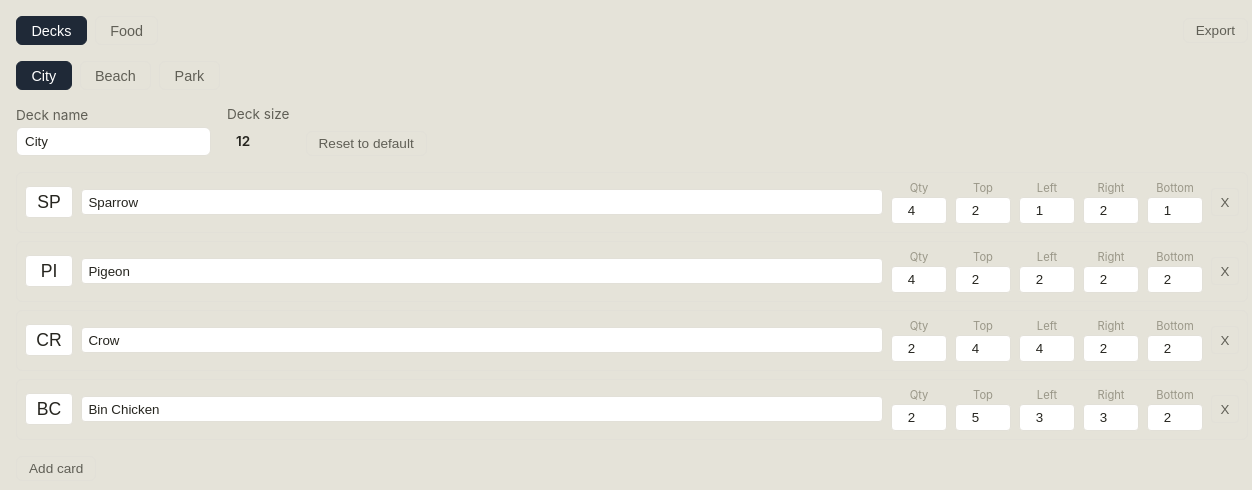
Test: ManagePage › has no editable deck-size field — it's the sum of each card's quantity
The image size is (1252, 490).
Expected: the text "12" is shown, top-left (236, 133), bottom-right (250, 149)
Replace the text in the 1st number field labelled "Qty" with "10": (919, 210) top-left (891, 197), bottom-right (947, 224)
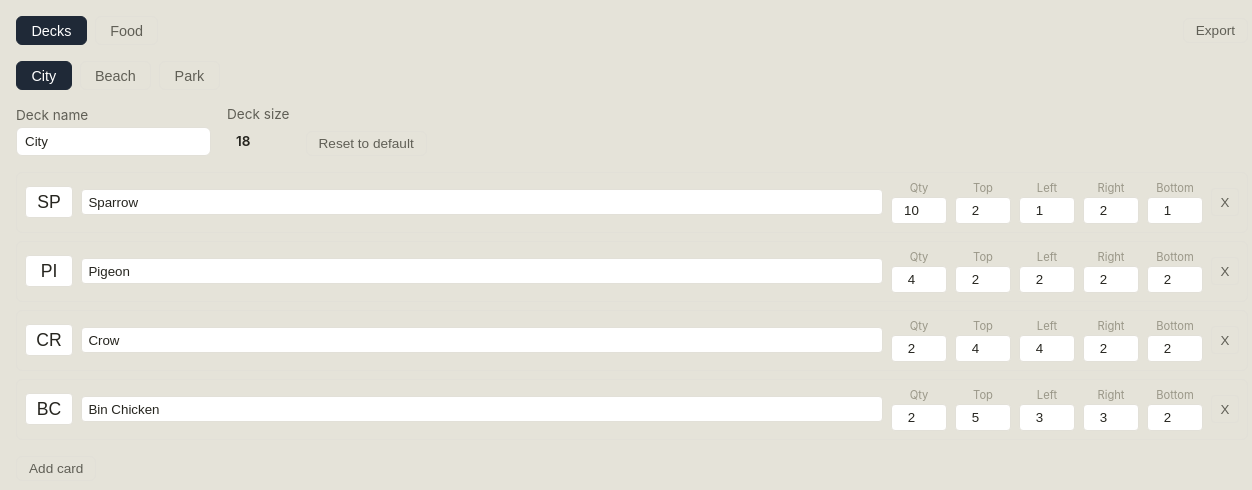
Now the text "18" is shown, box top-left (236, 133), bottom-right (250, 149)
